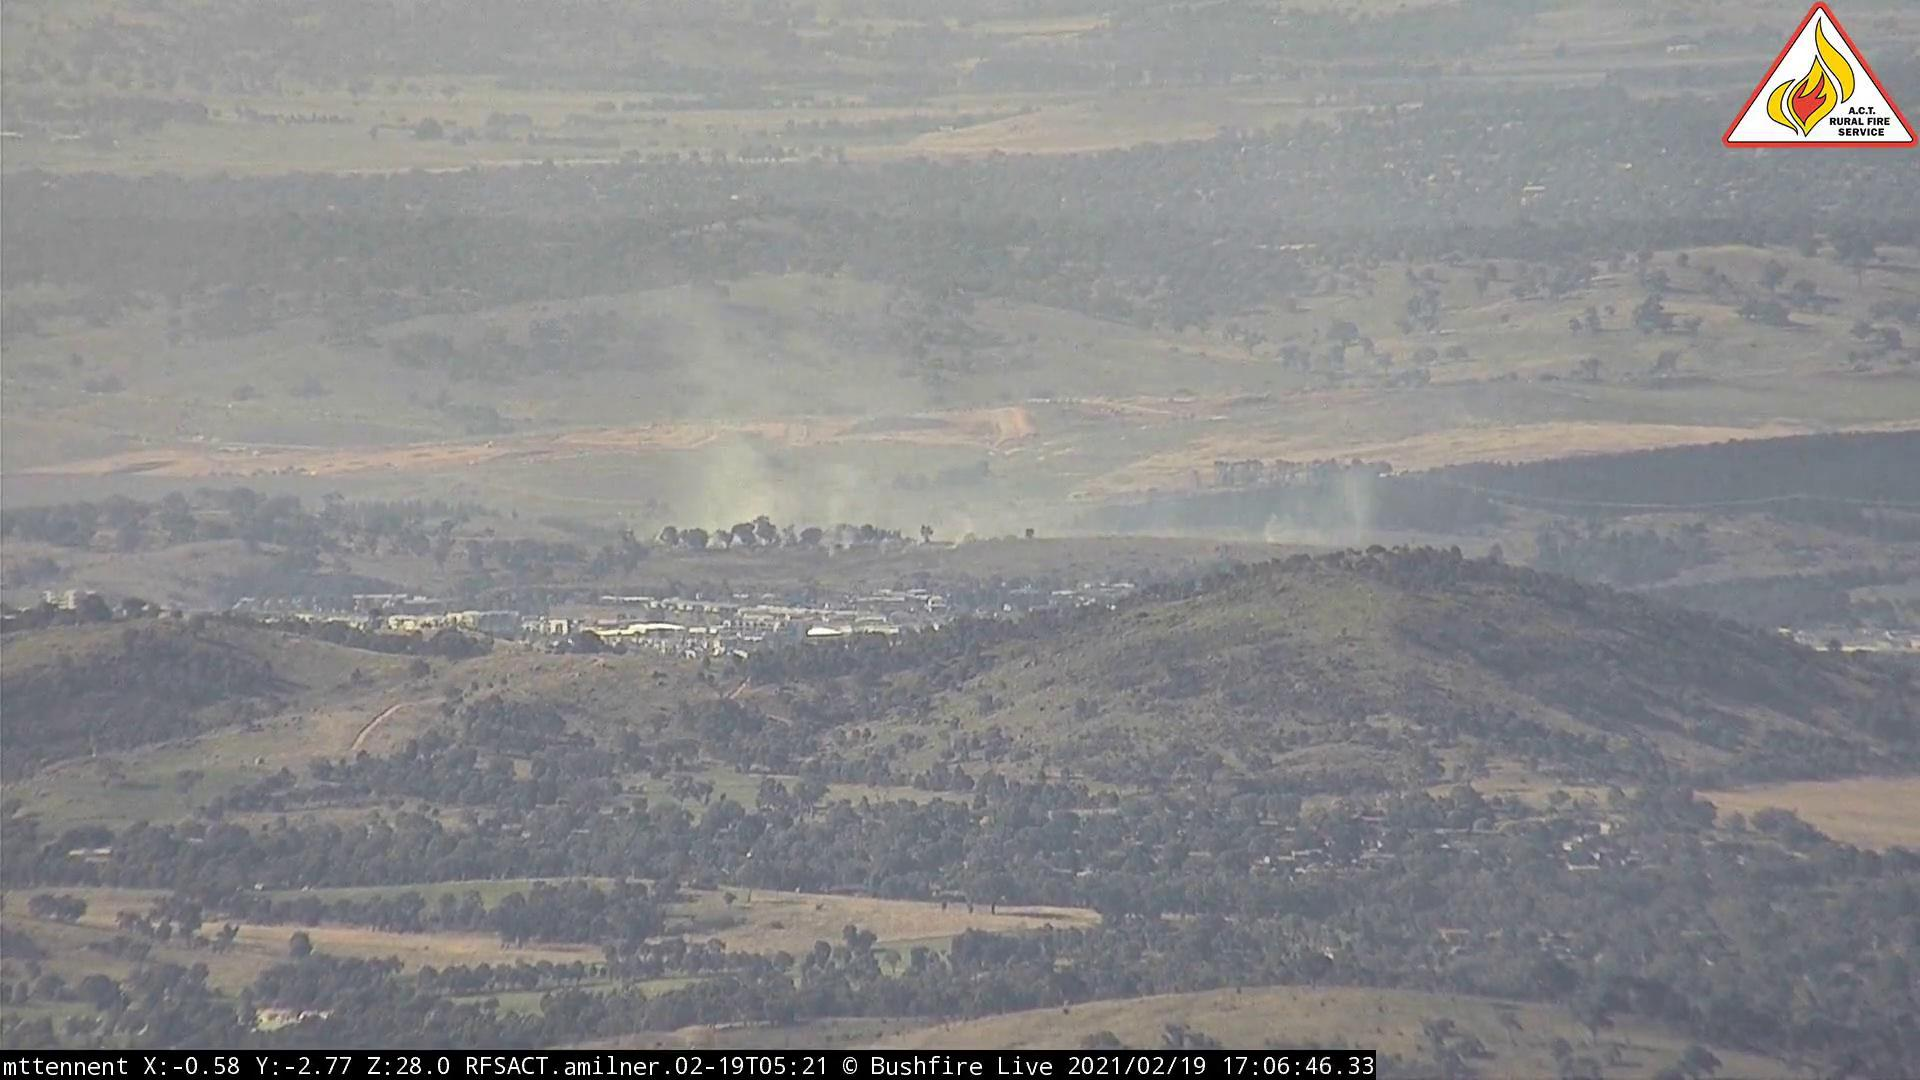Smoke: (667, 351, 956, 533), (1245, 450, 1390, 549)
